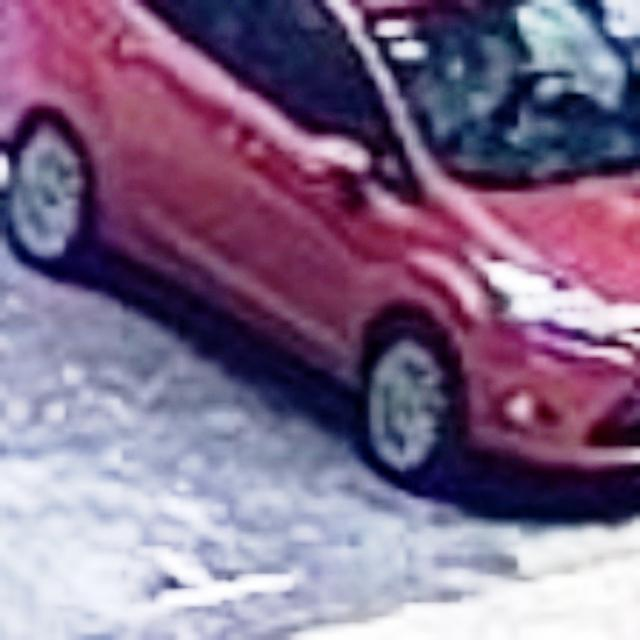Car: (0, 0, 639, 499)
